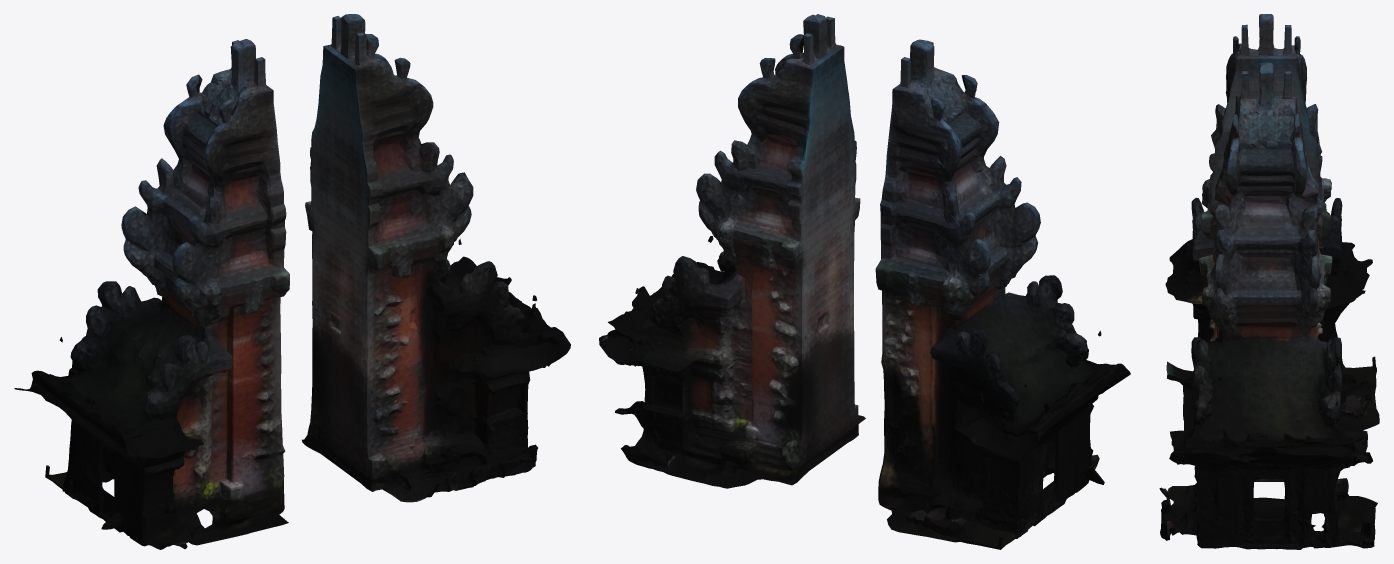
The model's file is bali.glb.
The picture shows the model from 3 angles, left to right: view 1: azimuth 30°, elevation 25°; view 2: azimuth 150°, elevation 25°; view 3: azimuth 270°, elevation 25°; orthographic projection. The views are drawn at different scales.
Parts seen in each view (by area): view 1: world; view 2: world; view 3: world.
Boxes of the visible parts, <box> form: world: <box>14,14,570,549</box>; world: <box>599,14,1130,549</box>; world: <box>1159,14,1379,549</box>.
Size of the model in its own units: 0.6956 by 0.6542 by 0.3074.
1 material, 1 textured.
